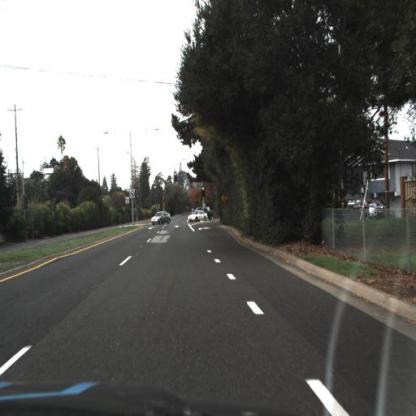car: (152, 209, 173, 227), (187, 209, 207, 226)
trafficLight-Red: (200, 185, 209, 202), (172, 170, 180, 187)
